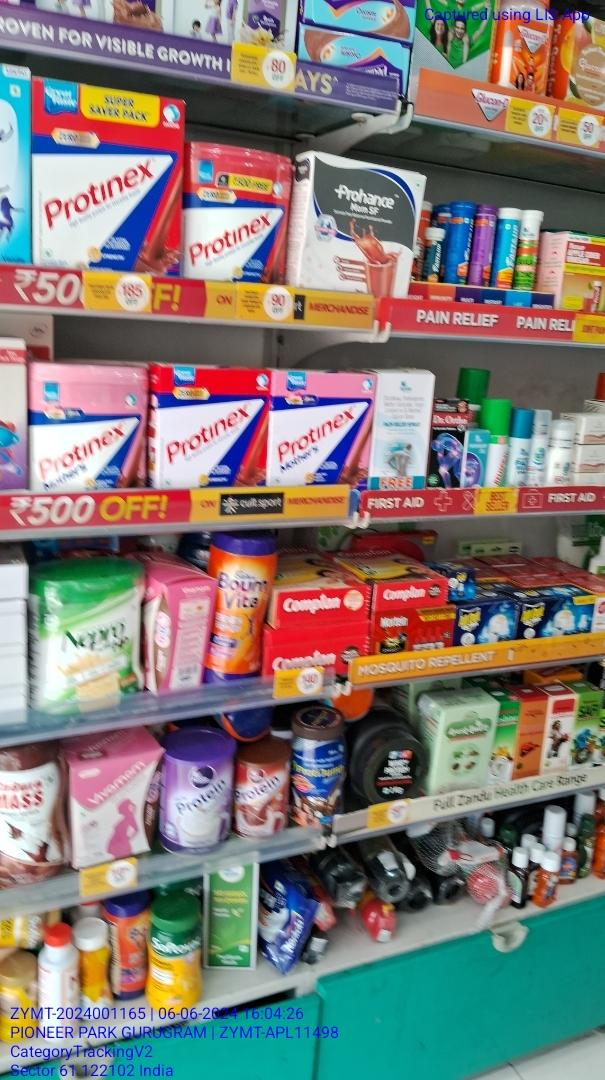BOURN_VITA_500_G_JAR: (207, 532, 272, 683)
PROTINEX_CHOCOLATE_400_G_JAR: (185, 146, 288, 283)
